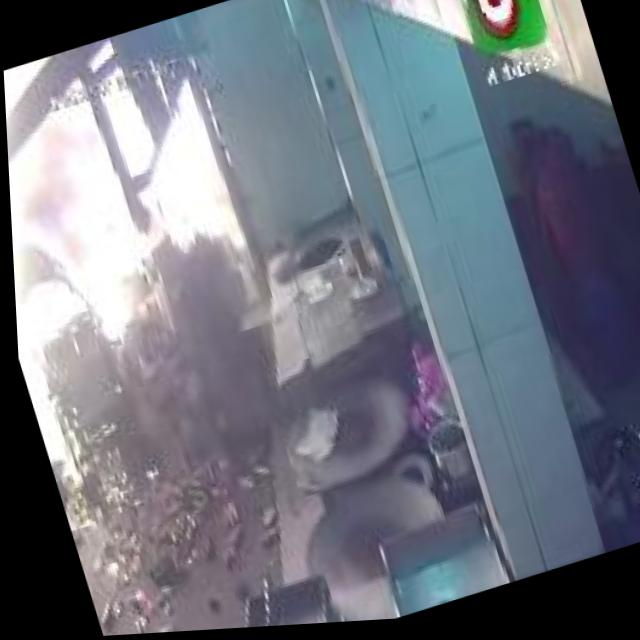fire: (2, 45, 197, 482), (28, 49, 244, 300)
